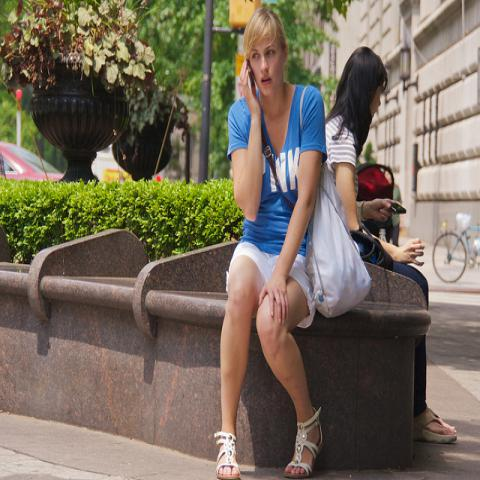car: (0, 143, 63, 180)
